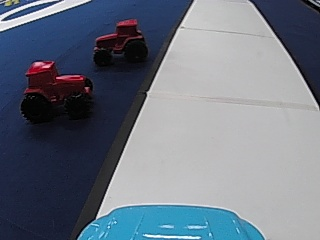Tracktor: (19, 58, 99, 125), (93, 17, 149, 65)
